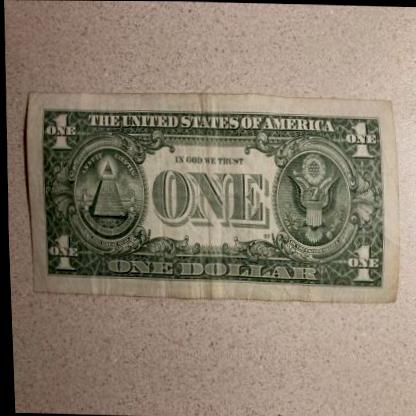one-back: (19, 87, 404, 304)
